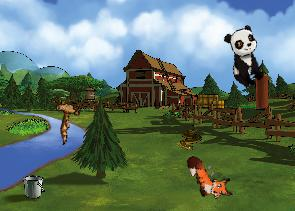eagle: (39, 87, 93, 145)
fox: (183, 146, 236, 207)
panda: (221, 24, 269, 90)
